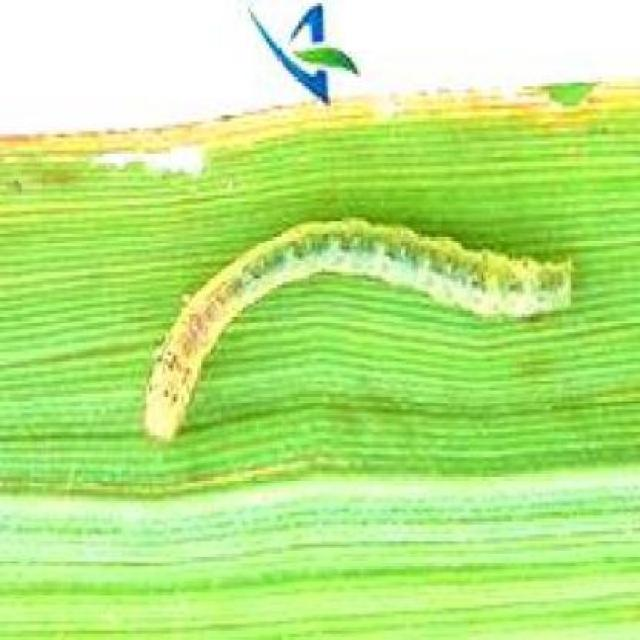leaf-folder: (142, 200, 586, 460)
